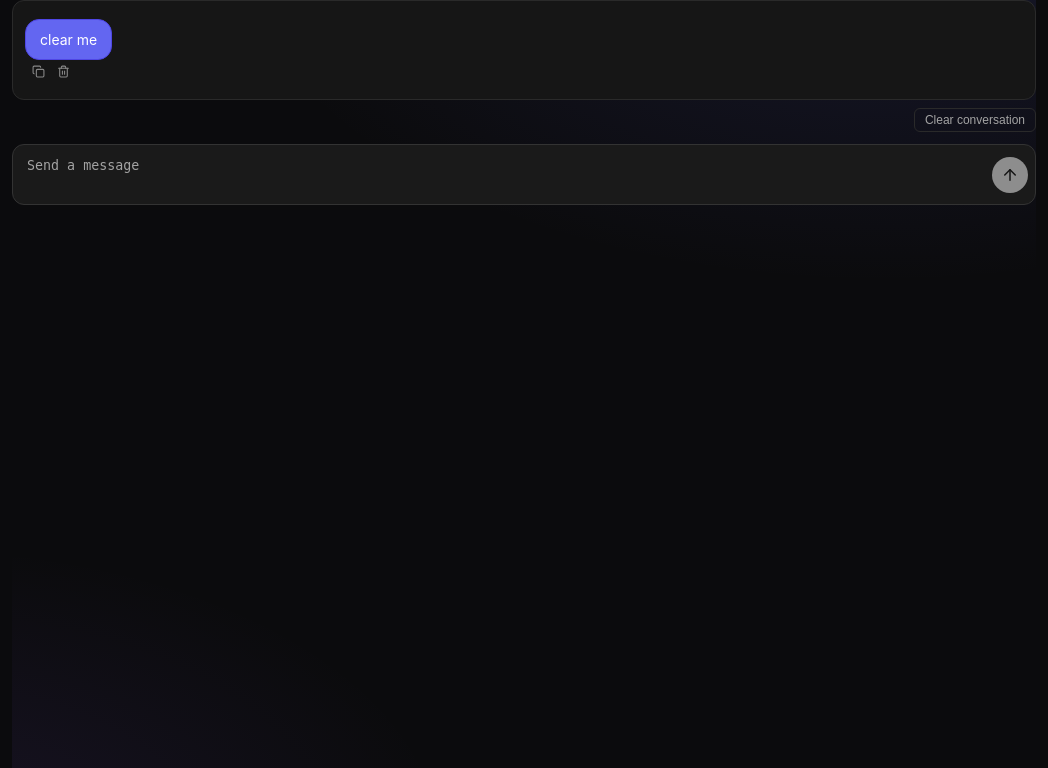
Test case: Chorus clear and delete confirmations › clears uncontrolled messages from the built-in clear button
Expected: the text "clear me" is shown, [40,29,97,50]
Click the button "Clear conversation".
click(975, 120)  # box [914,108,1036,132]
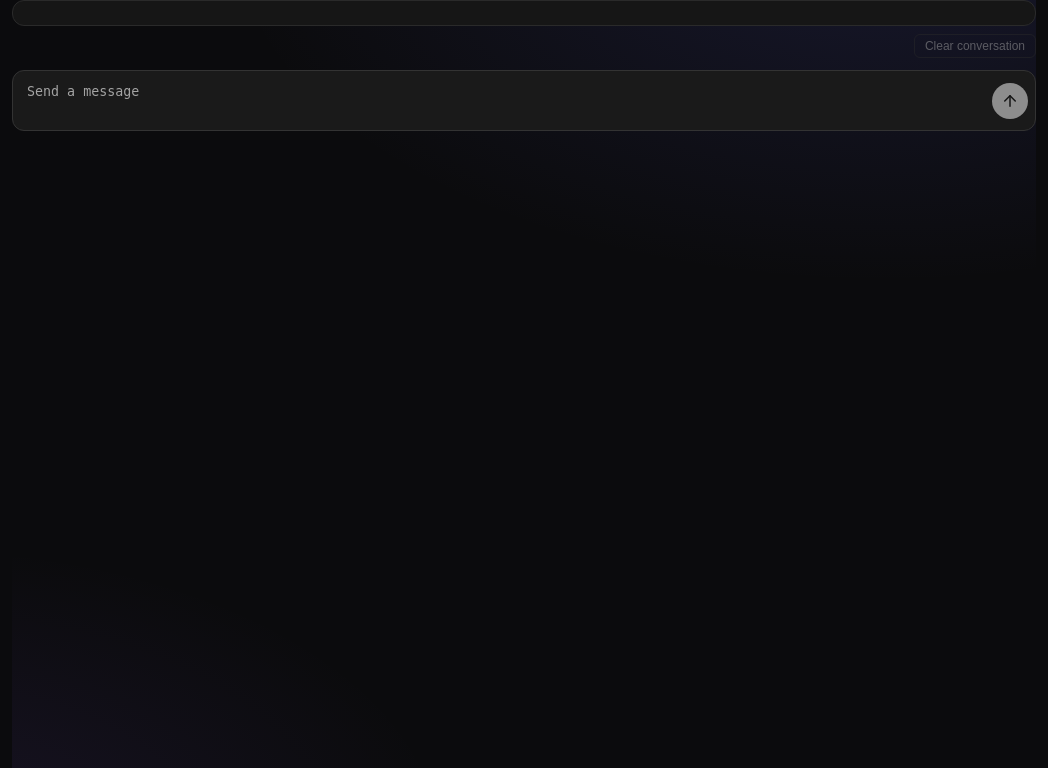
Now the text "clear me" is gone
